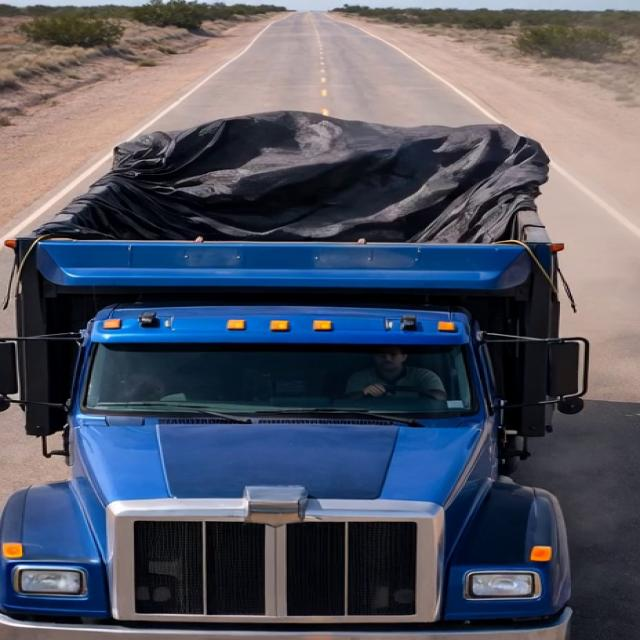trailer: (20, 117, 558, 287)
truck: (3, 89, 608, 613)
